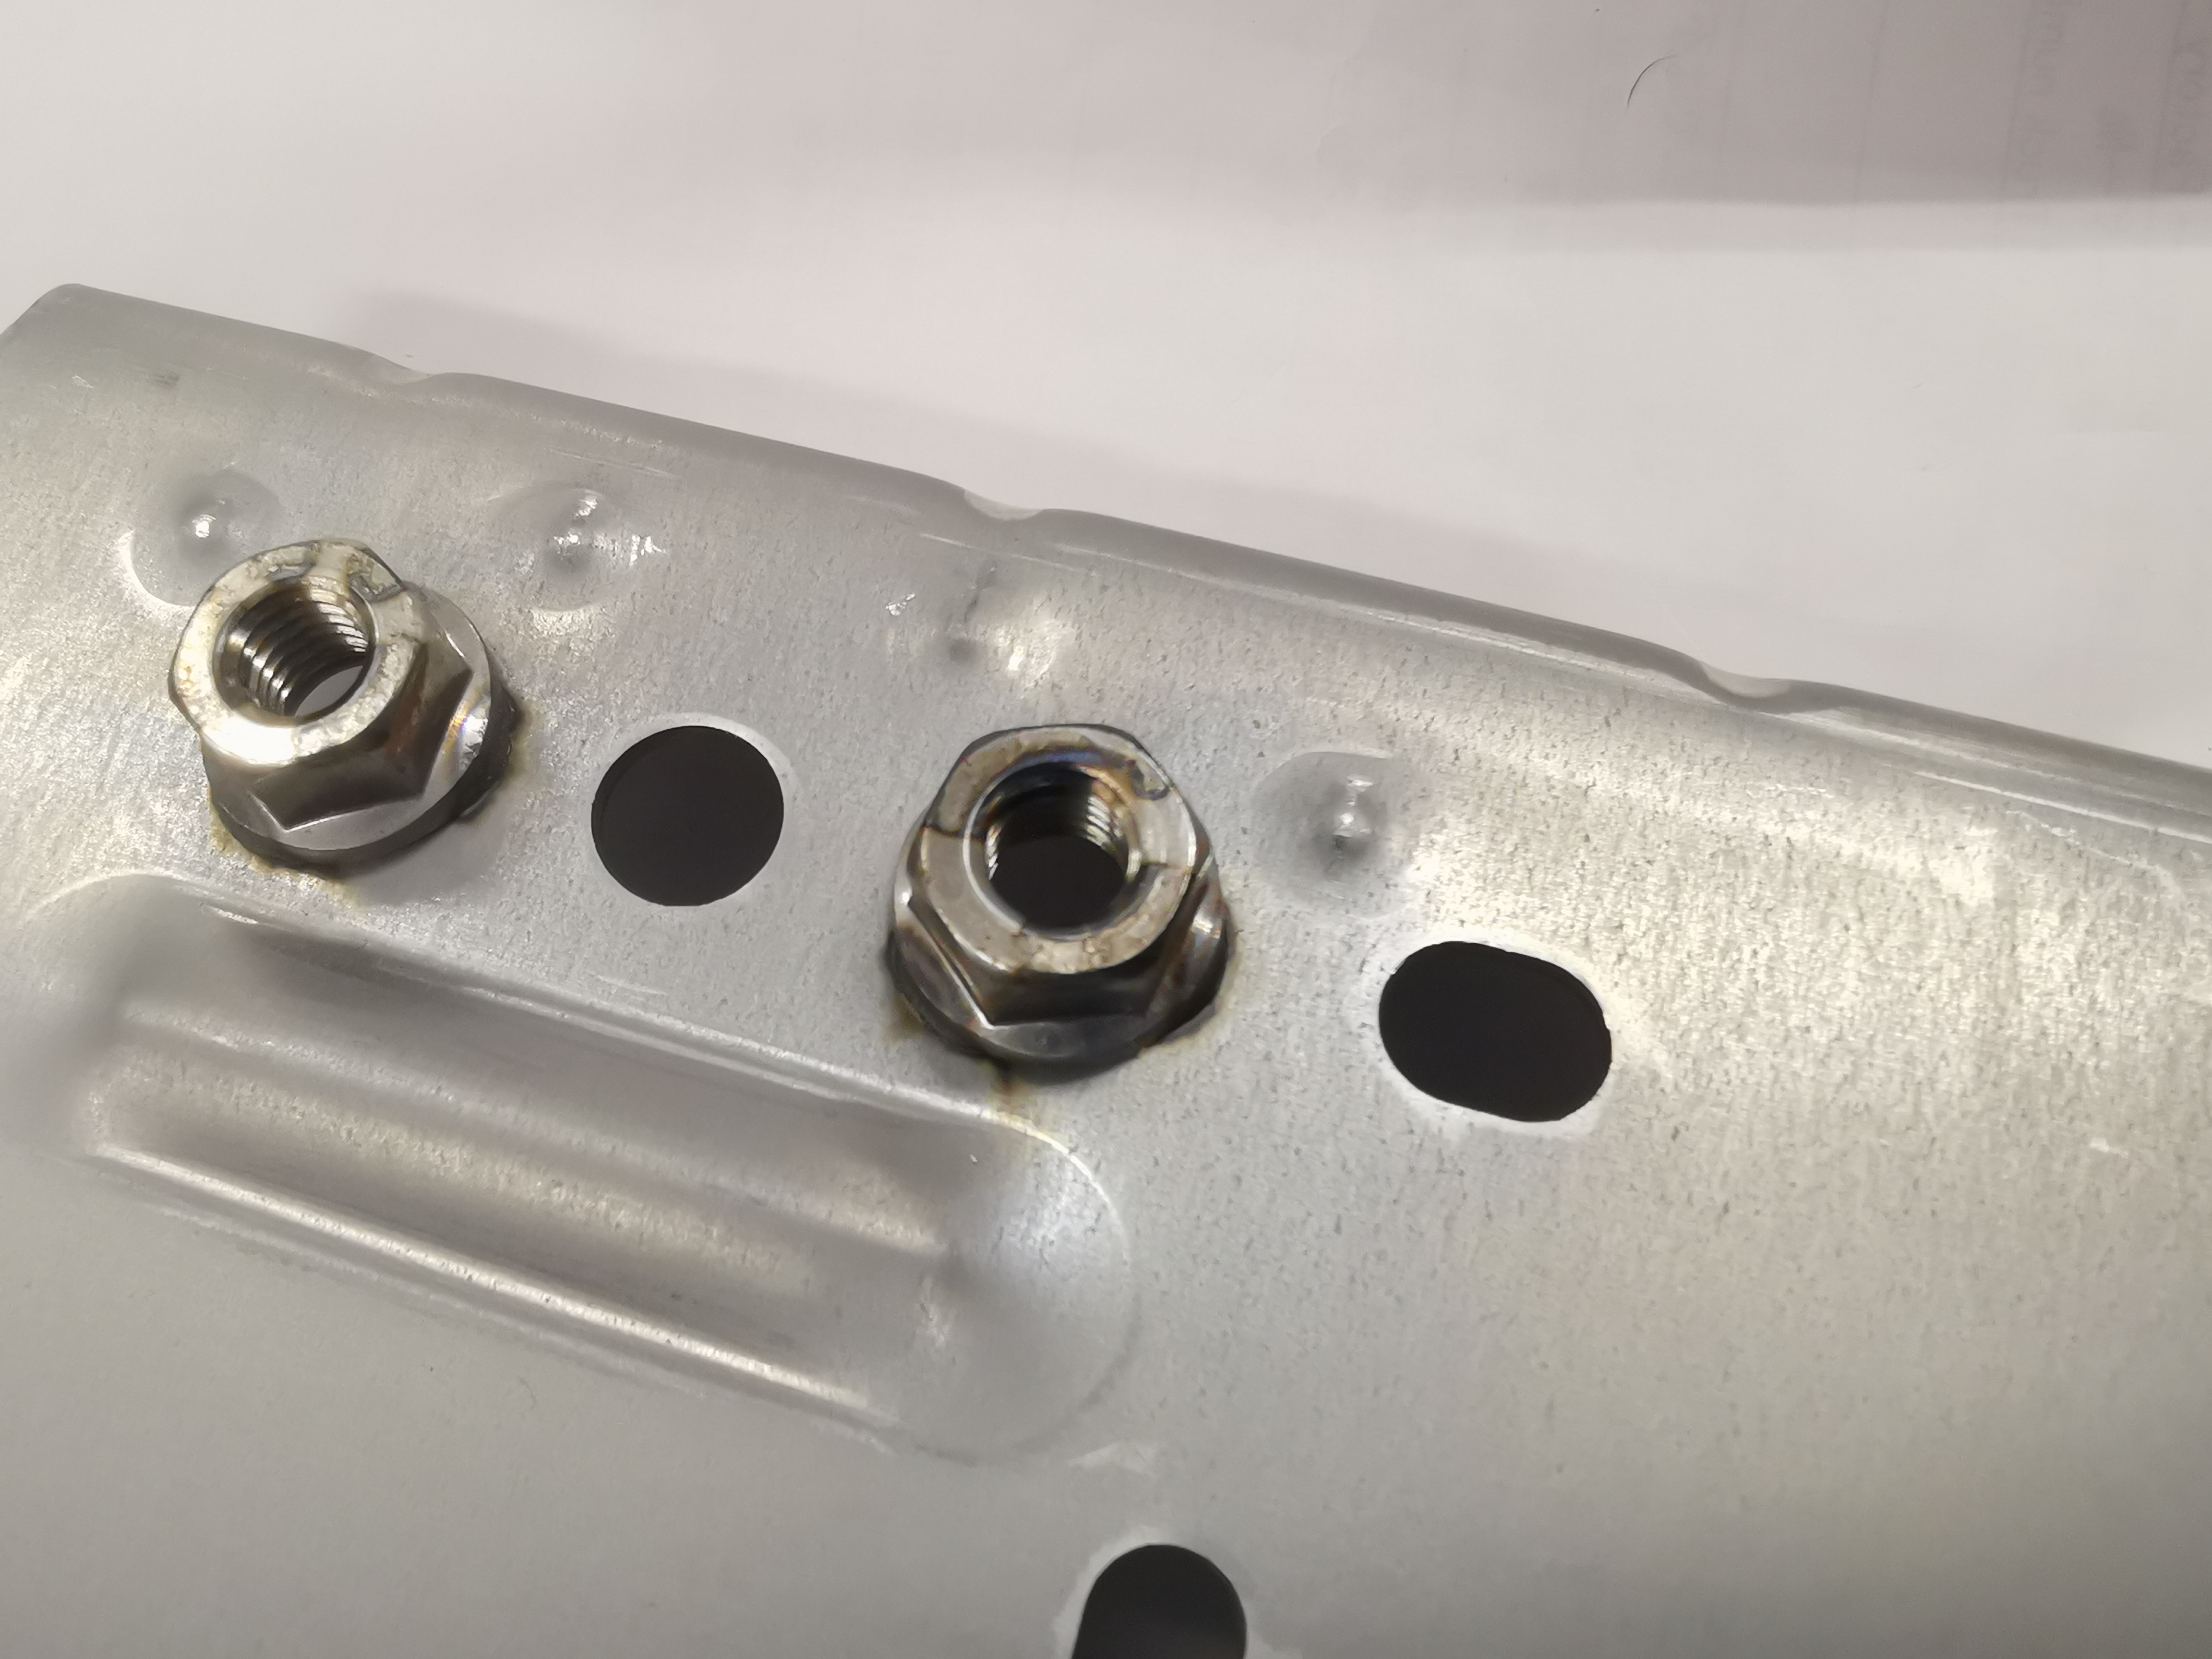dog: (878, 718, 1235, 1089), (157, 532, 503, 875)
